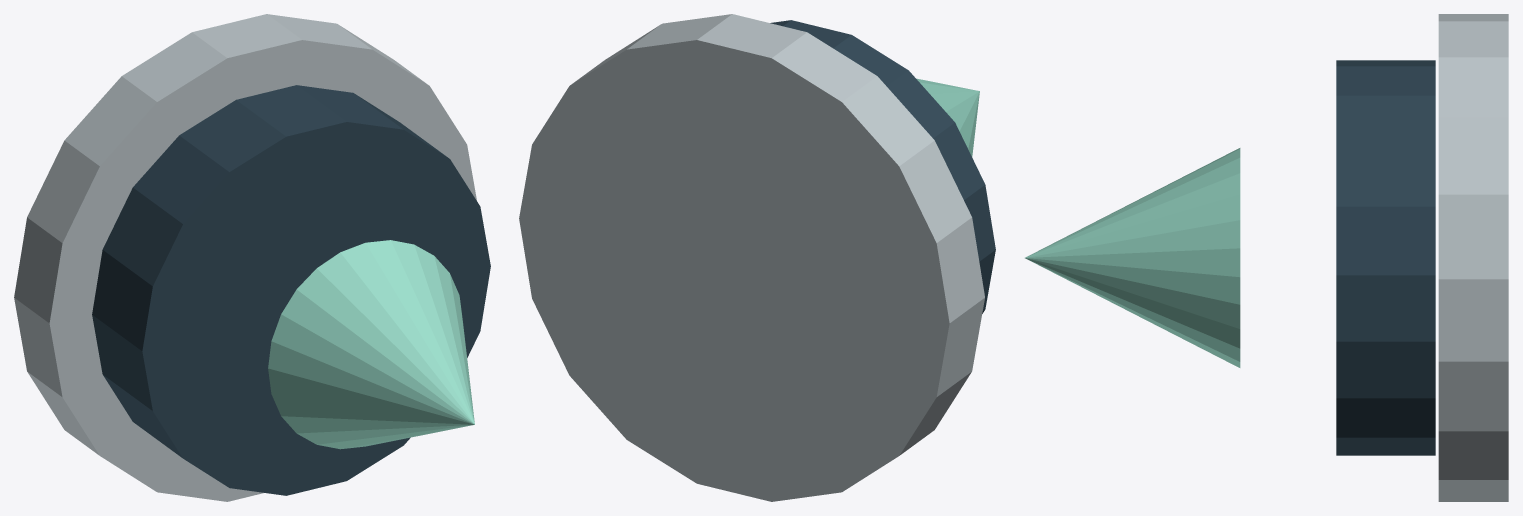
The model's file is TRAINING-BEACON.glb.
The picture shows the model from 3 angles, left to right: view 1: azimuth 30°, elevation 25°; view 2: azimuth 150°, elevation 25°; view 3: azimuth 270°, elevation 25°; orthographic projection.
Parts seen in each view (by area): view 1: world; view 2: world; view 3: world.
Boxes of the visible parts, box(x1,y1,x2,y2) form: world: box(14, 14, 490, 501); world: box(519, 14, 995, 501); world: box(1025, 14, 1508, 501).
Bounding box in the file's own units: 0.84 × 0.8272 × 0.83.
